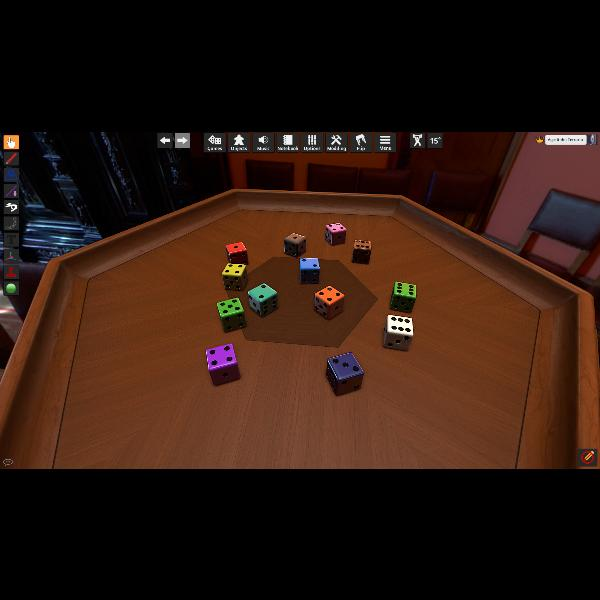d6: (326, 351, 364, 395), (205, 343, 238, 385), (382, 314, 414, 350), (313, 286, 343, 320), (248, 282, 278, 316), (218, 297, 246, 333), (390, 281, 416, 313), (222, 263, 248, 291), (283, 232, 305, 258), (226, 242, 248, 266), (352, 238, 372, 264), (326, 222, 347, 246), (300, 257, 318, 283)
